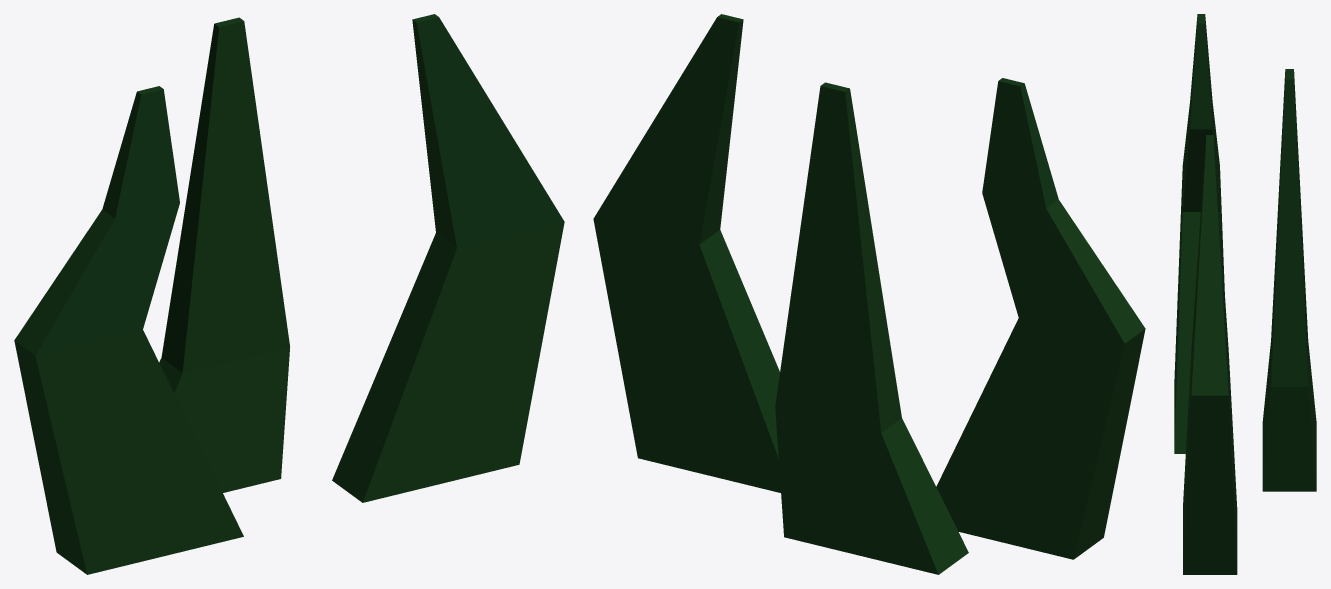
Rendered from Grass.fbx.
The picture shows the model from 3 angles, left to right: view 1: azimuth 30°, elevation 25°; view 2: azimuth 150°, elevation 25°; view 3: azimuth 270°, elevation 25°; orthographic projection. The views are drawn at different scales.
Visible parts, largest first — view 1: Cube; view 2: Cube; view 3: Cube.
Part boxes in pixels (x1,y1,x2,y2): Cube: (14, 14, 564, 574); Cube: (593, 14, 1145, 574); Cube: (1174, 14, 1316, 574).
Size of the model in its own units: 265 by 215 by 69.23.
